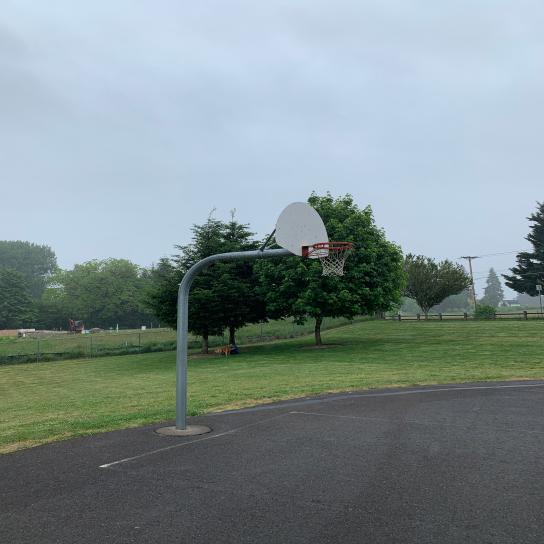basketball-hoop: (312, 241, 356, 277)
